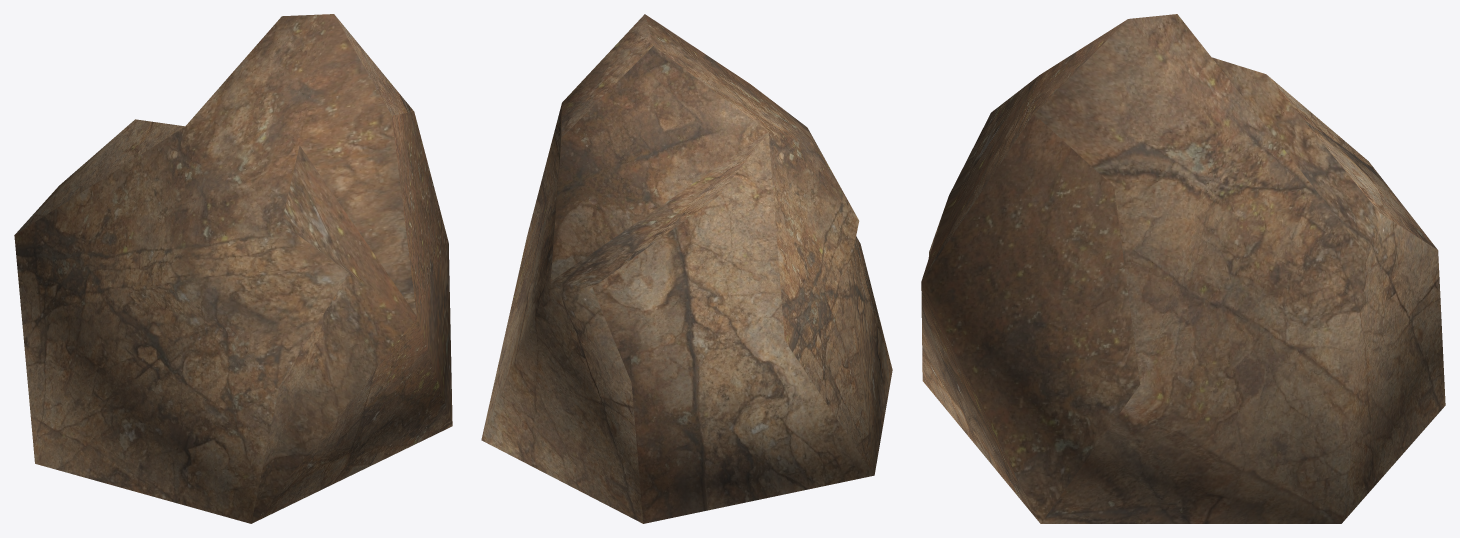
Rendered from MidRock2.fbx.
3 renders of one model, left to right at view 1: azimuth 30°, elevation 25°; view 2: azimuth 150°, elevation 25°; view 3: azimuth 270°, elevation 25°, orthographic. The views are drawn at different scales.
Parts seen in each view (by area): view 1: MidRock2; view 2: MidRock2; view 3: MidRock2.
Boxes of the visible parts, left/top/right/bottom form: MidRock2: left=14, top=14, right=452, bottom=523; MidRock2: left=481, top=14, right=892, bottom=523; MidRock2: left=921, top=14, right=1445, bottom=523.
Size of the model in its own units: 67.63 by 67.03 by 68.77.
Materials: 1 (1 with a texture image).
